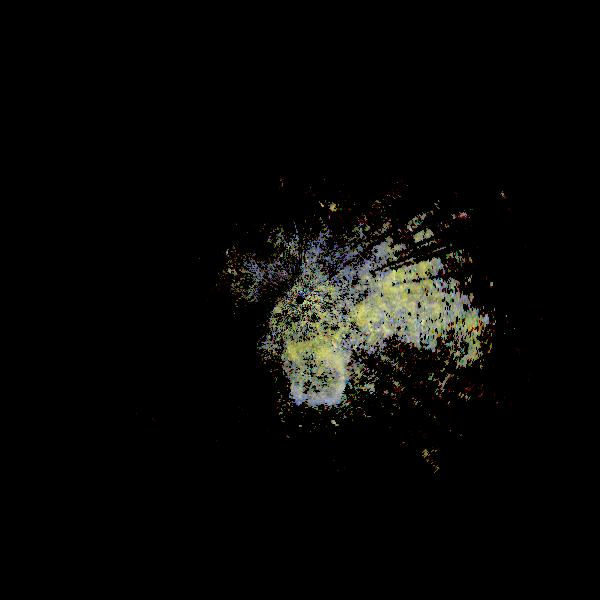roost: (257, 325, 356, 424)
